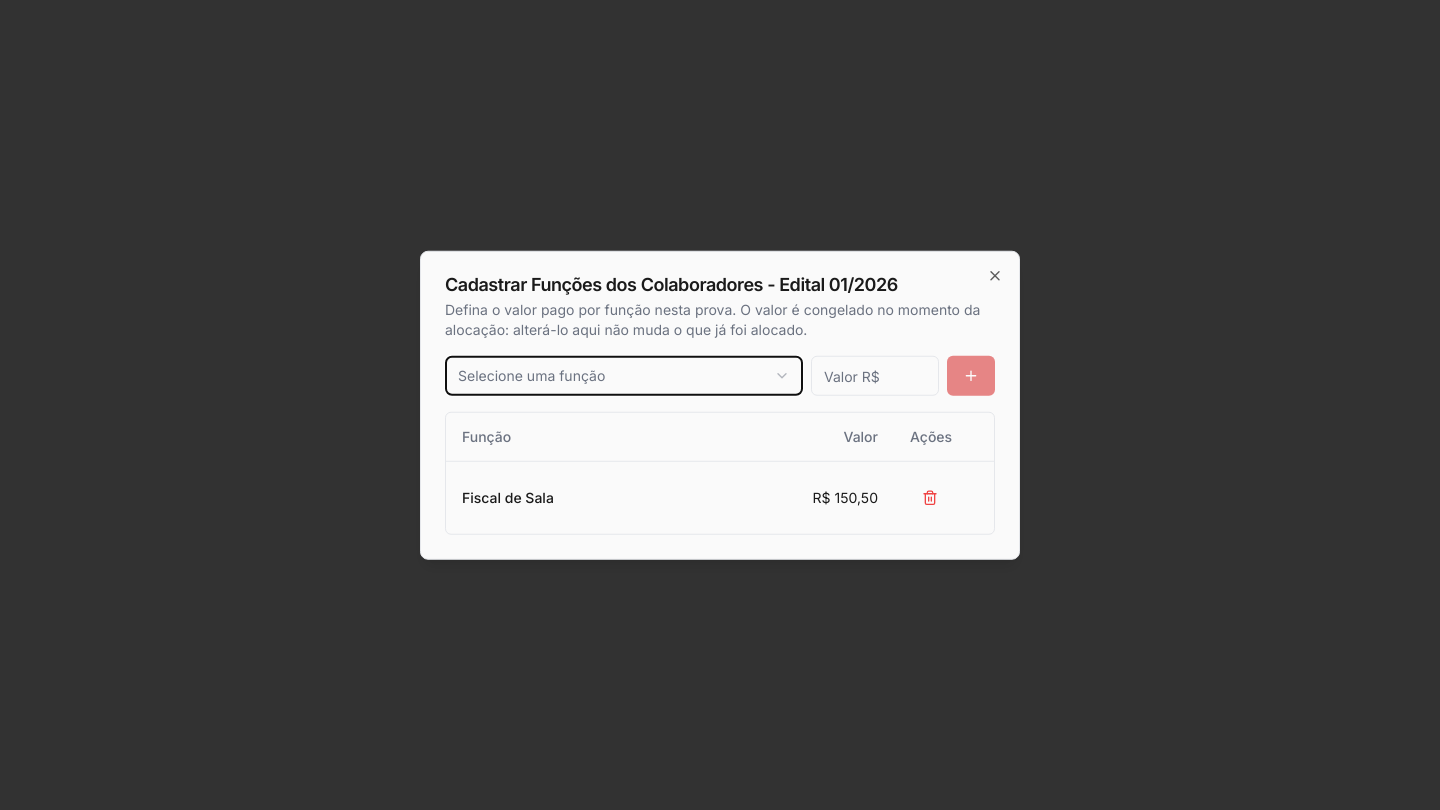
Test: ValoresFuncaoProvaDialog (interação) › a tabela de valores › clicar no valor abre a edição embutida, já preenchida
Click the text "R$ 150,50" at [845, 497], box [813,488,878,505]
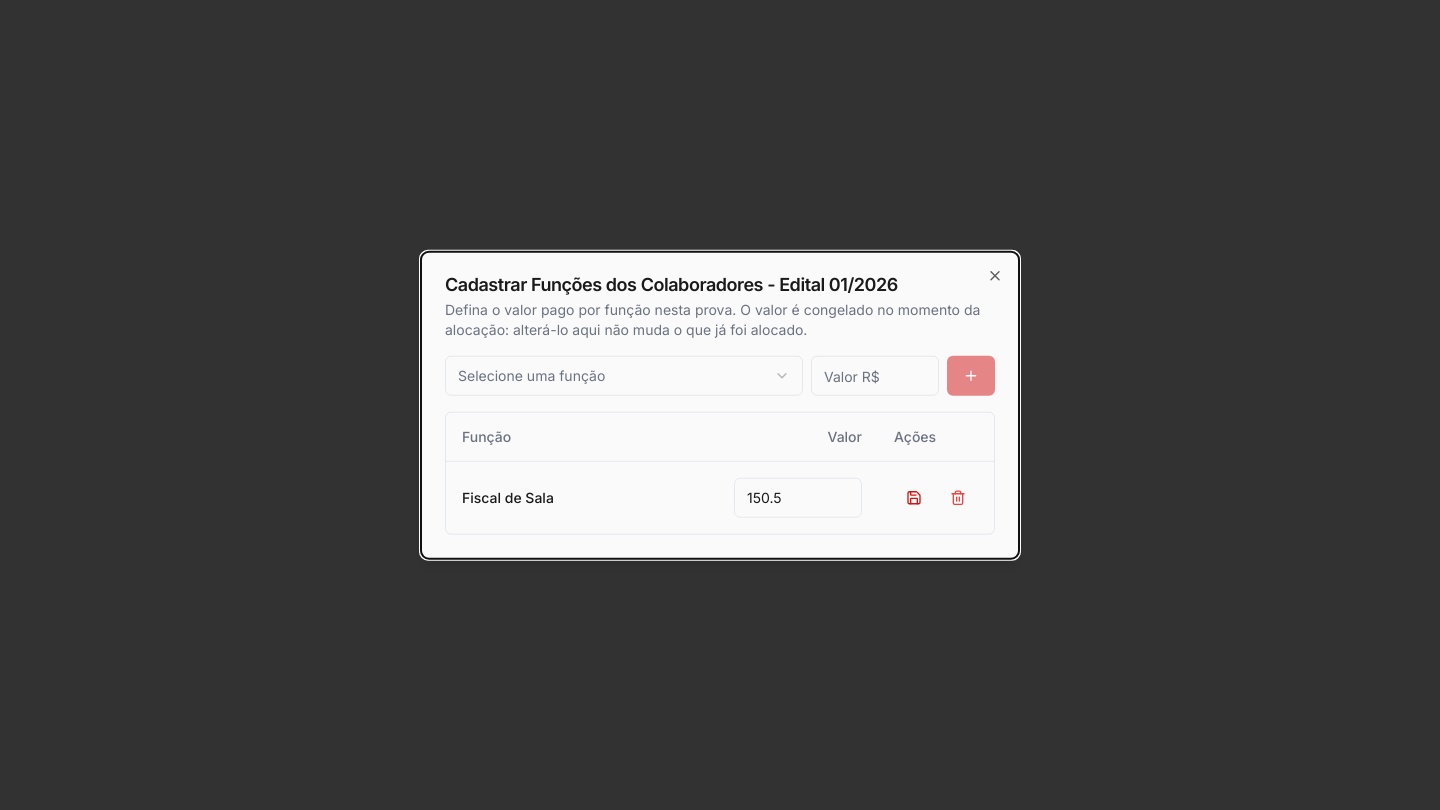
Check: the number of number fields is 2, box [811,356,939,396]; [734,477,862,517]
Check: the 2nd number field holds "150.5", box [734,477,862,517]
